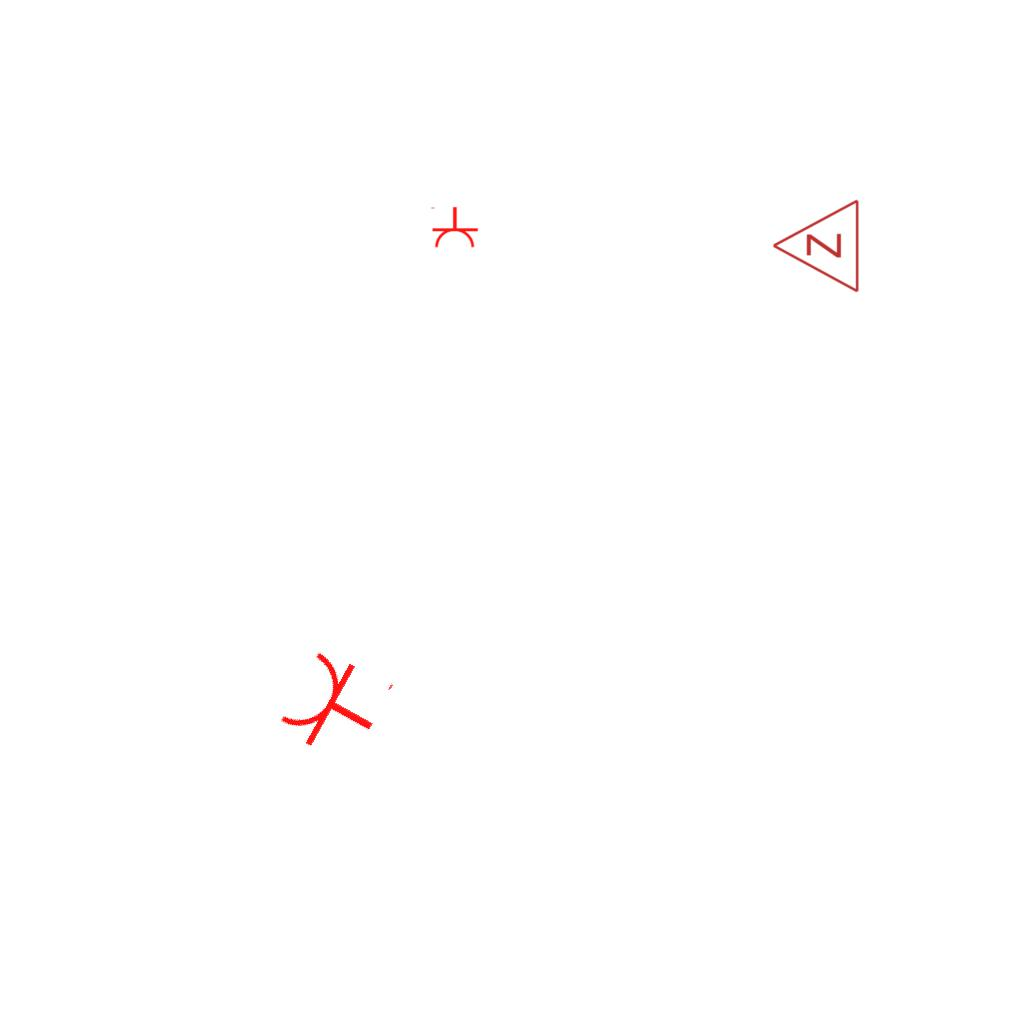Schukosteckdose_einfach: (273, 640, 398, 770), (429, 206, 479, 249)
Zimmersignalleuchte: (766, 198, 866, 296)
